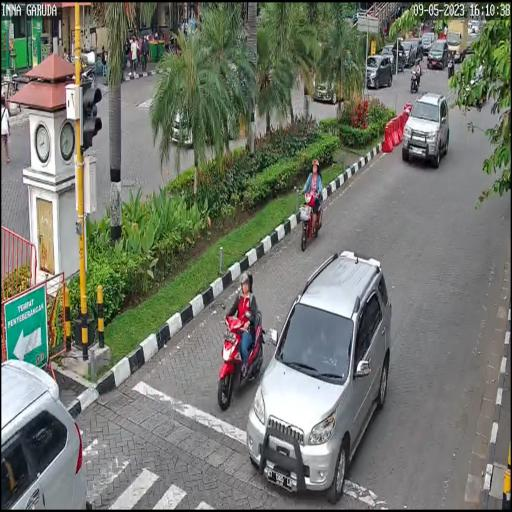mobil: (247, 248, 393, 506), (402, 91, 449, 172)
motor: (209, 295, 268, 417), (297, 185, 324, 248)
